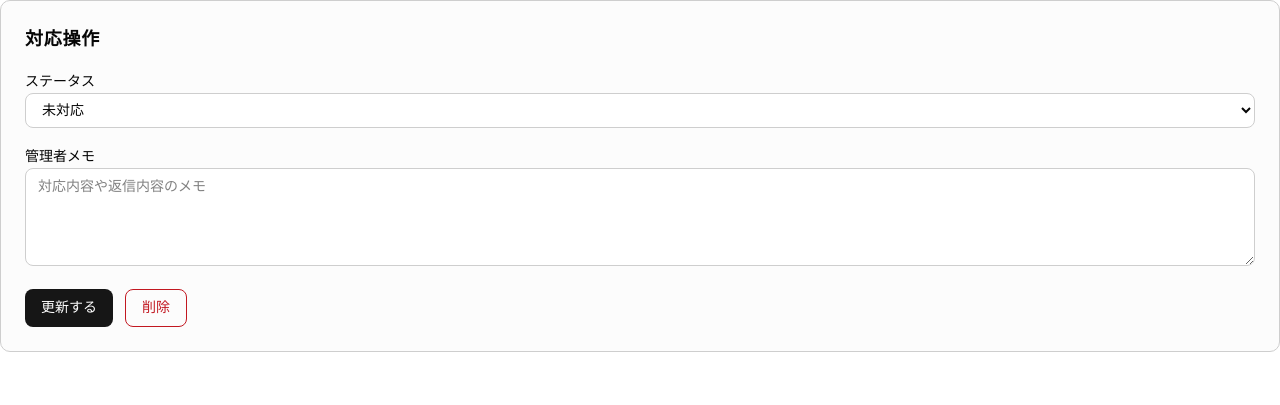
Test: ContactDetailActions › shows success message on successful update
The image size is (1280, 405).
Click the button "更新する": (69, 308) [25,289,113,327]
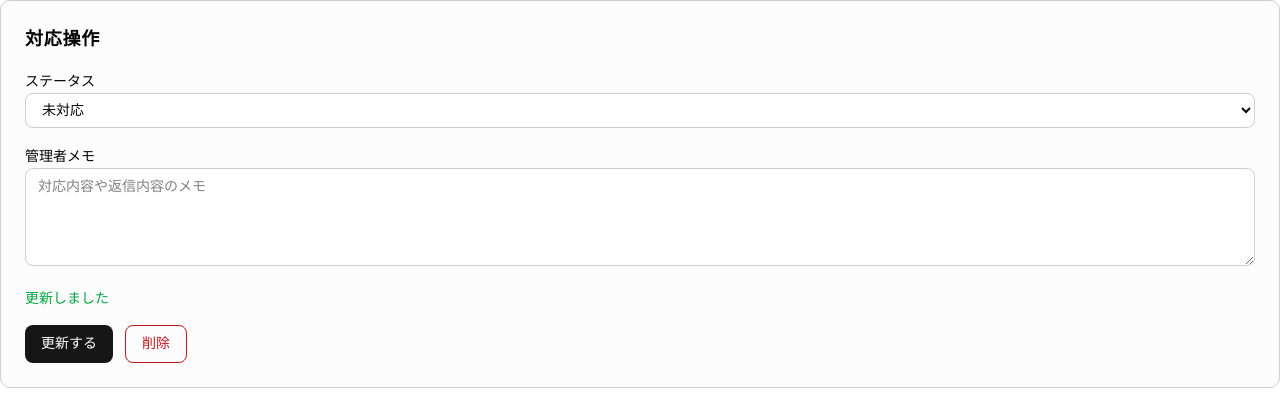
Expected: the text "更新しました" is shown, [25,291,109,306]
